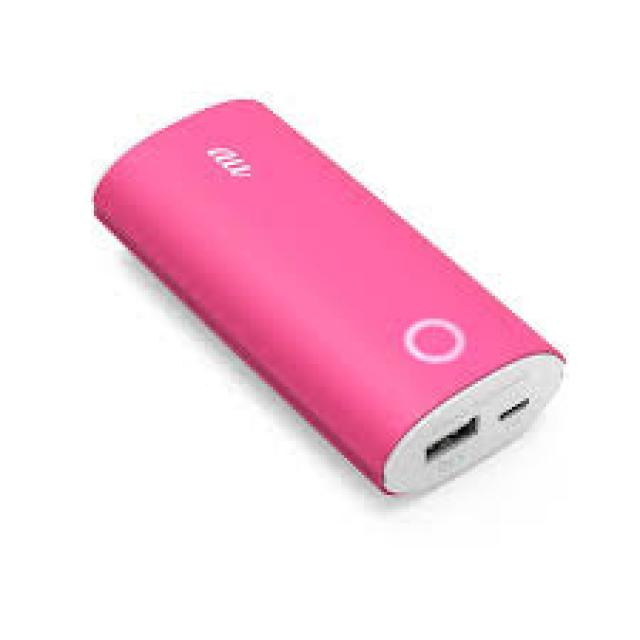non-organic waste: (85, 97, 564, 501)
